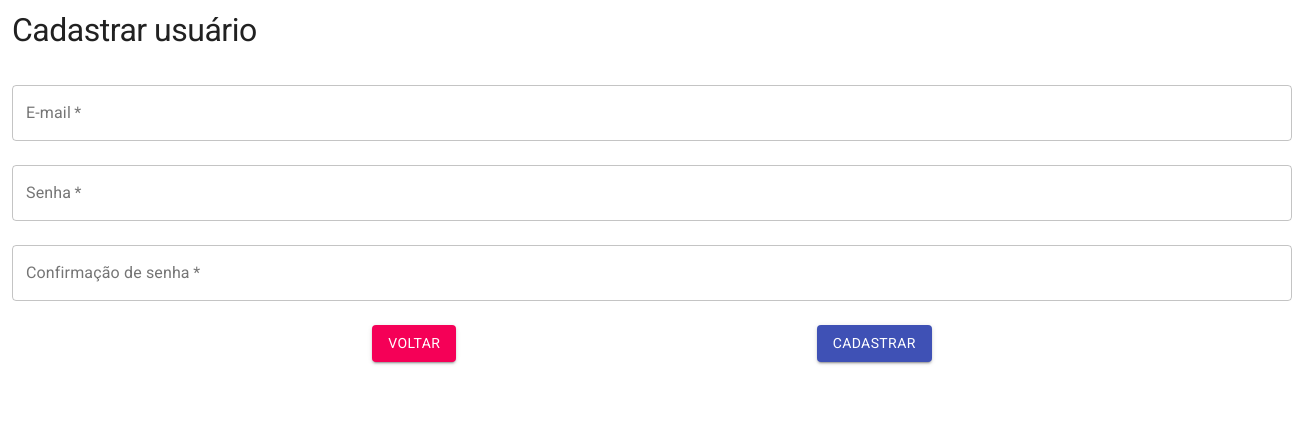
Cadastro Usuario › Deve mostrar erro ao colocar senhas diferentes na tela de Cadastro
In the password field labelled "Senha *": (652, 193) [12, 165, 1292, 221], type "aaa"
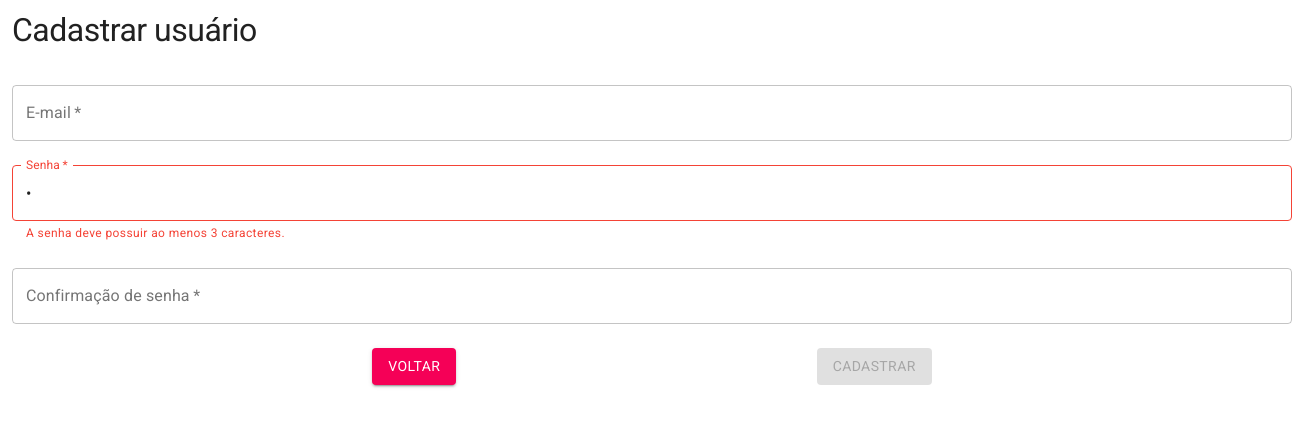
In the password field labelled "Confirmação de senha *": (652, 296) [12, 268, 1292, 324], type "aab"
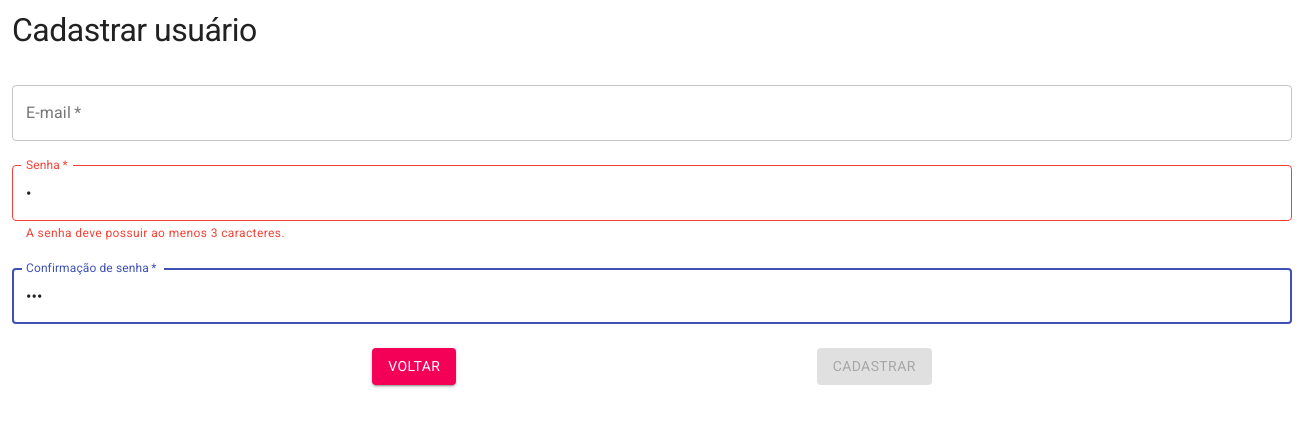
Leave the password field labelled "Confirmação de senha *", box [12, 268, 1292, 324]
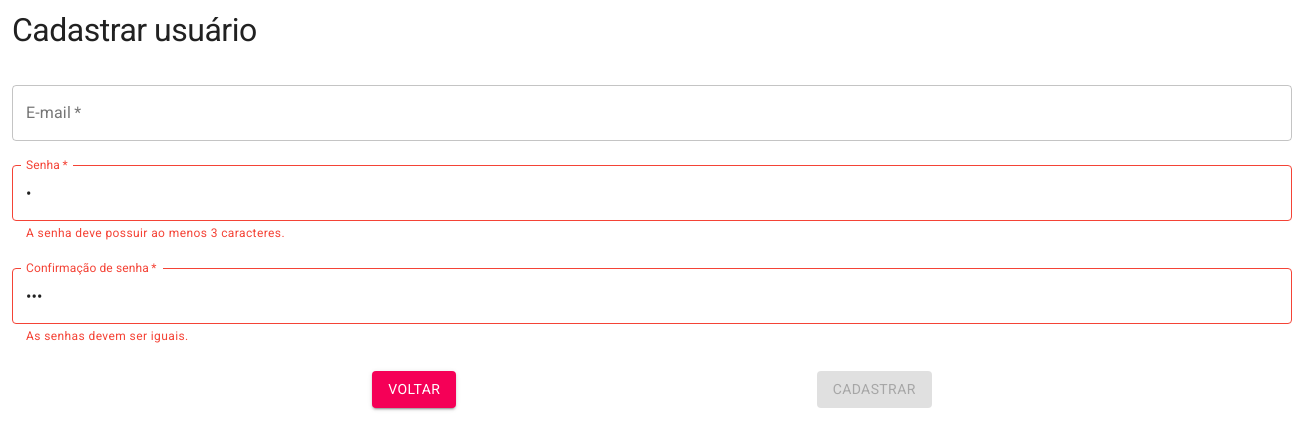
Check: the text "As senhas devem ser iguais." is shown, box [26, 329, 189, 343]
